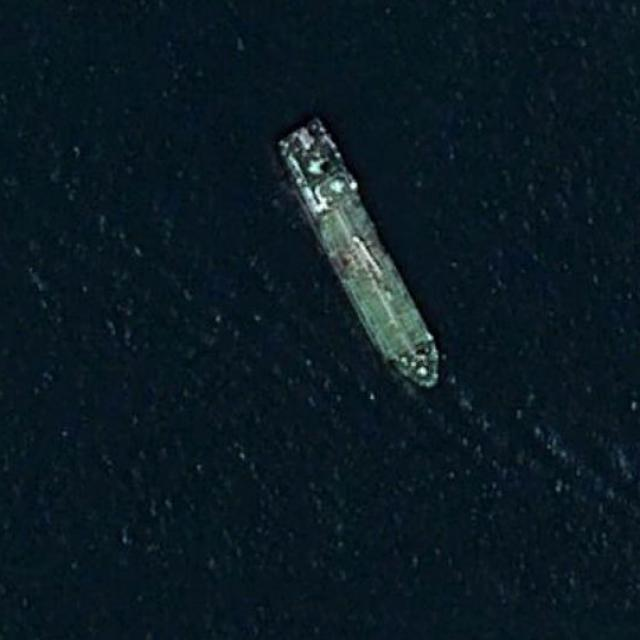ship: (278, 113, 442, 390)
